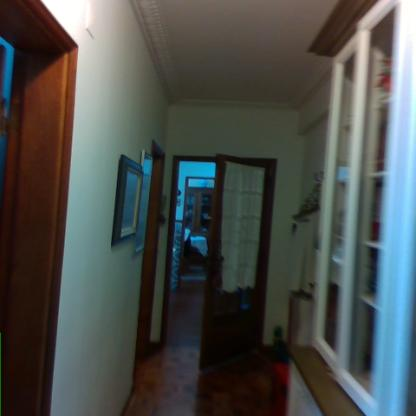semi: (161, 145, 278, 374)
